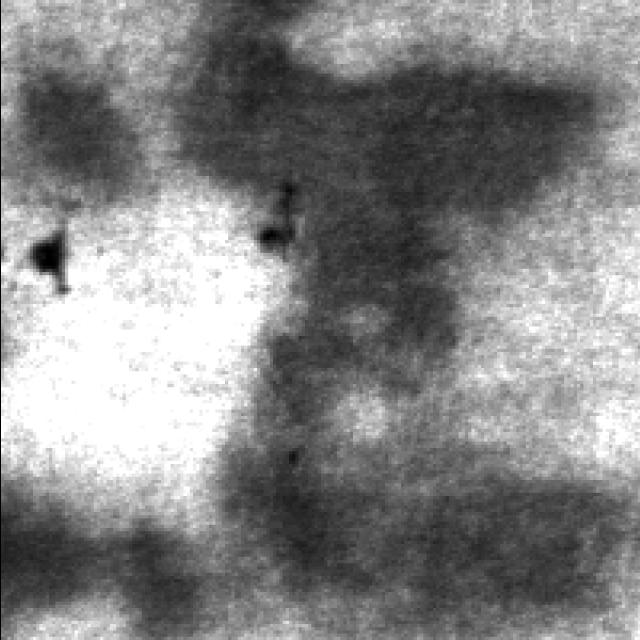patches: (6, 9, 631, 640)
